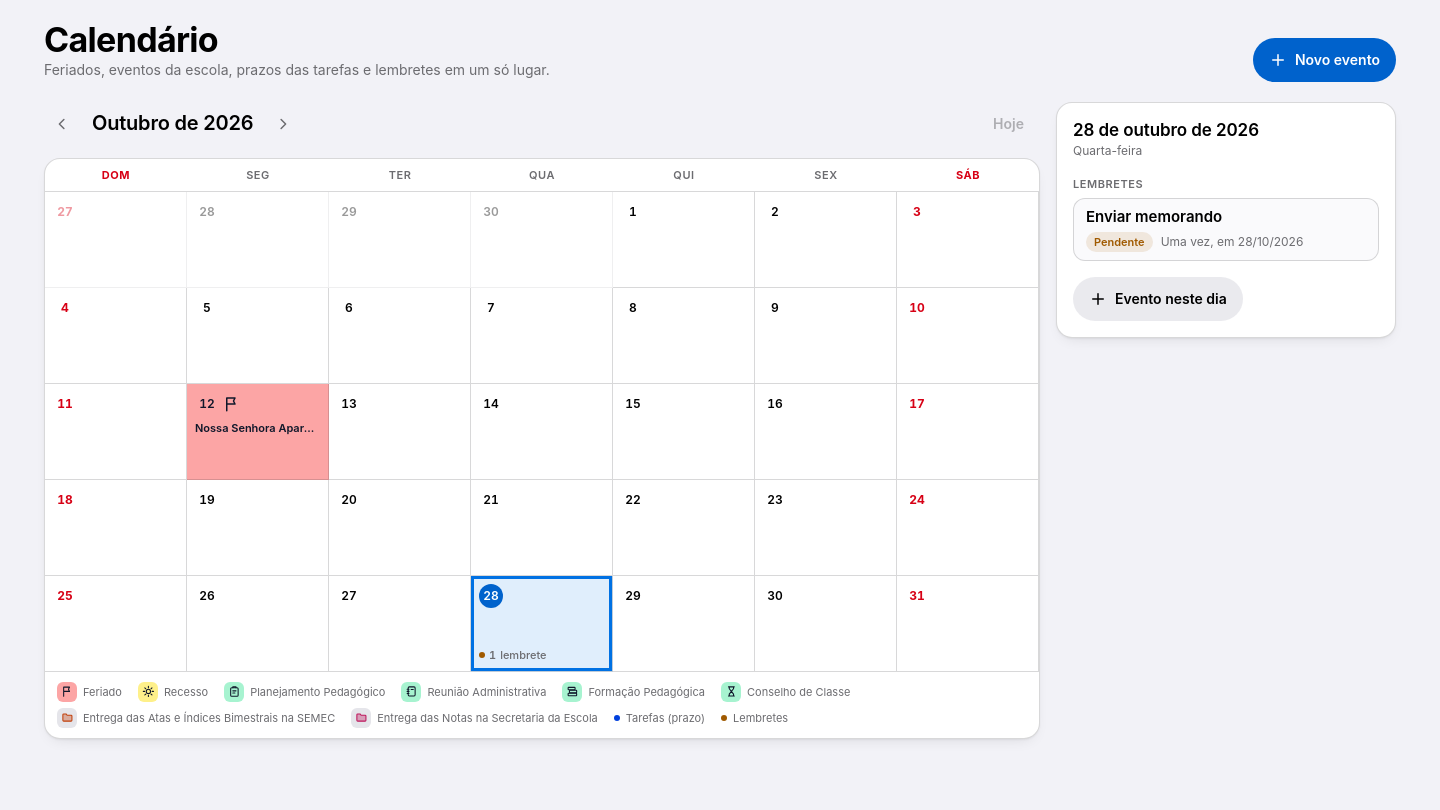
Scenario: CalendarioApp › navega entre os meses
Click the button named "Próximo mês".
click(283, 124)  # box [265,106,301,142]
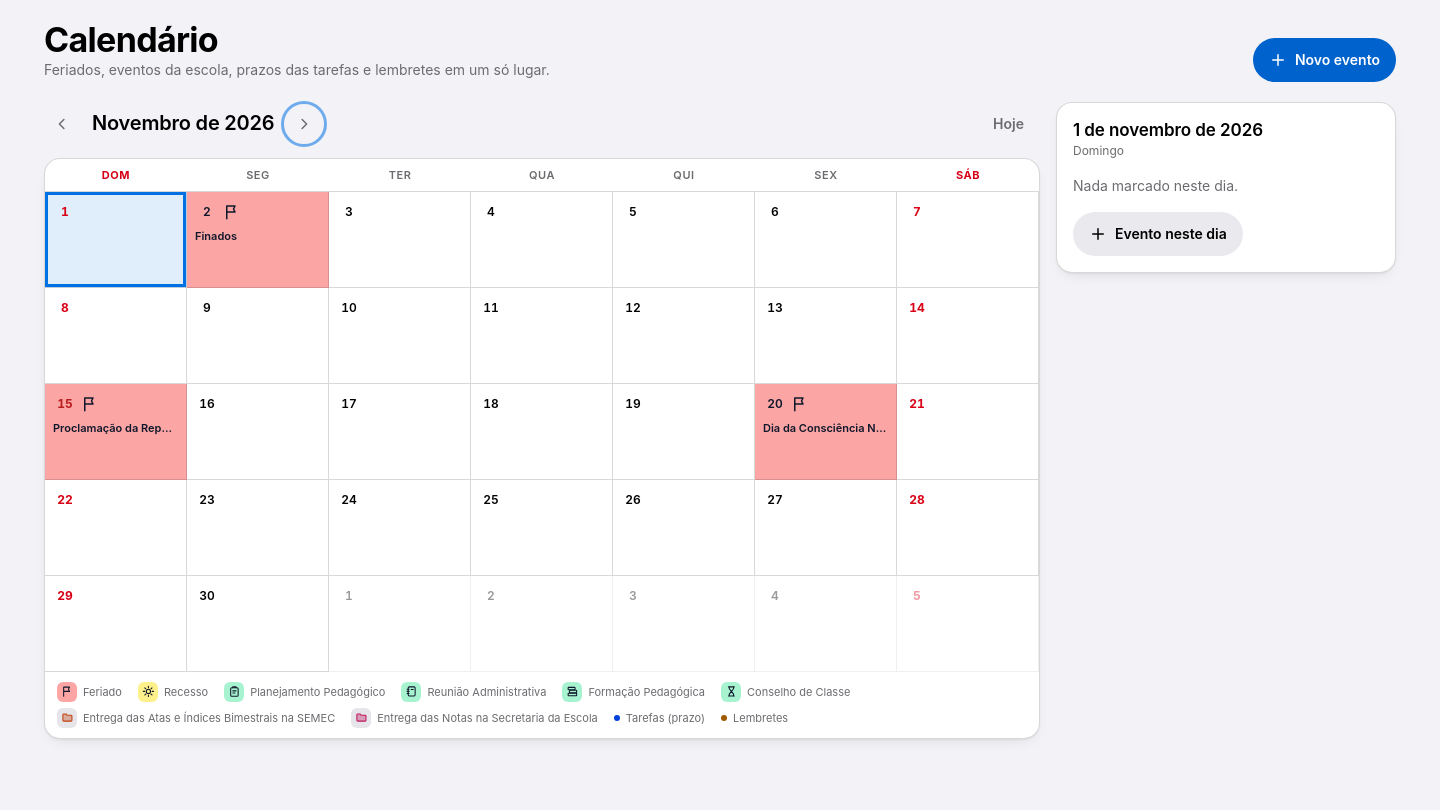
Click the button "Hoje".
click(1009, 124)  # box [977,102,1040,146]
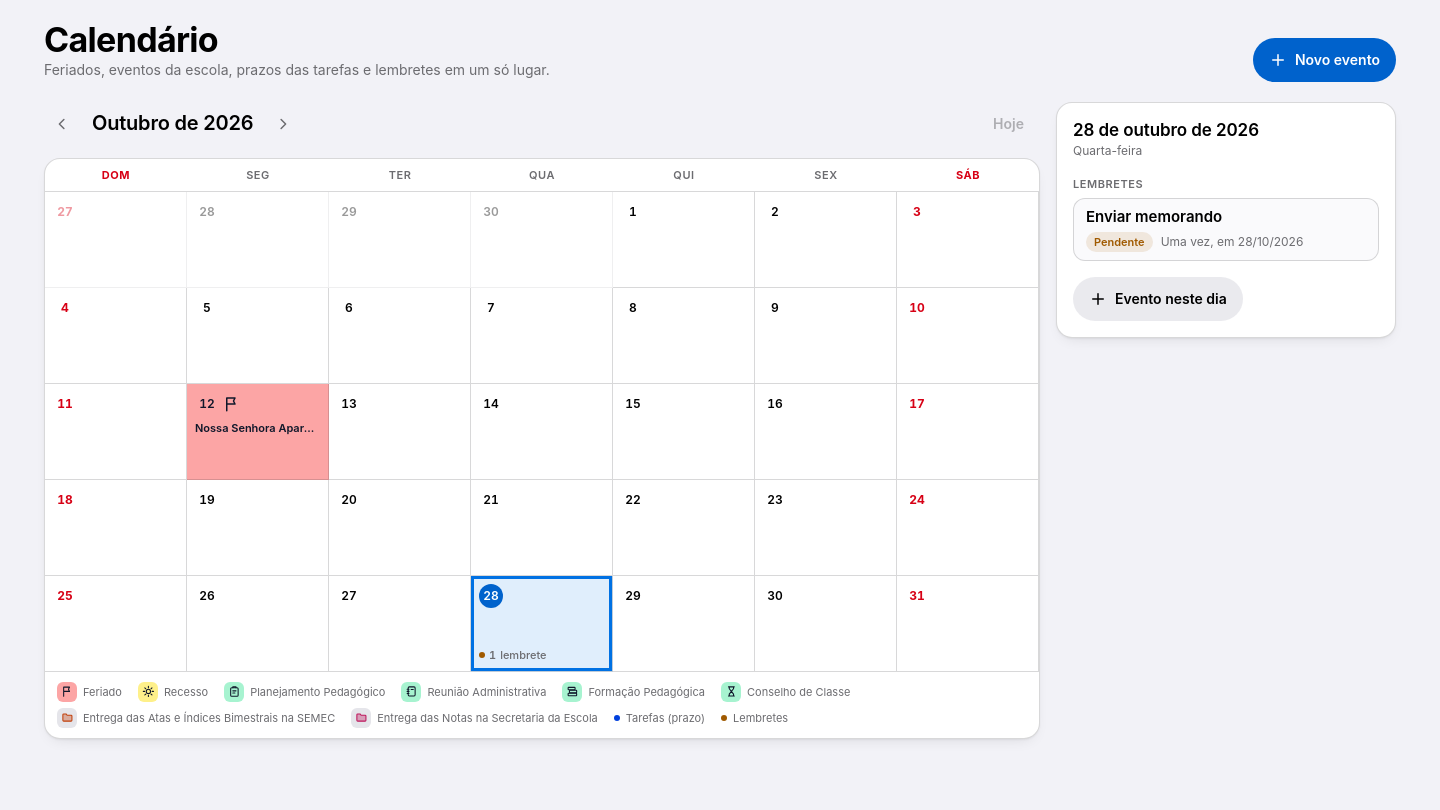
Result: the heading "outubro de 2026" is shown at [84,110,261,138]
